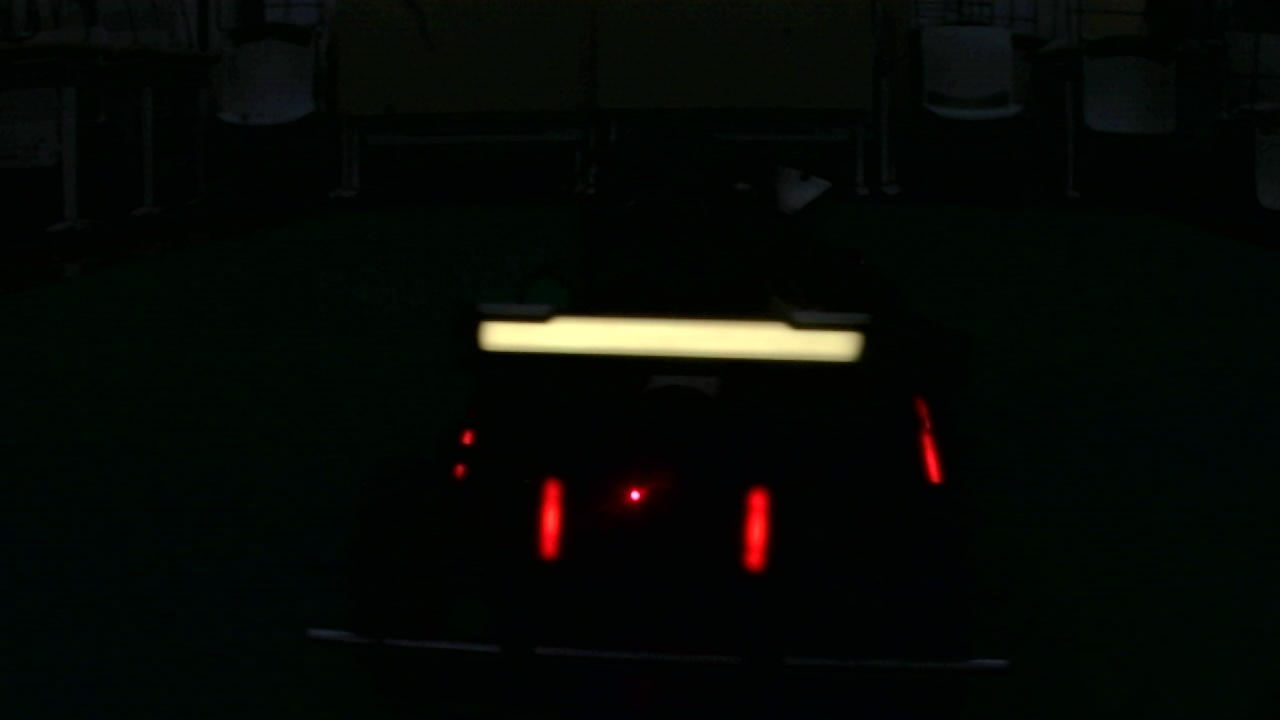lamp: (743, 476, 773, 575), (918, 391, 943, 485), (537, 471, 562, 564)
notpair1: (740, 397, 944, 575)
pair1: (538, 473, 766, 575)
